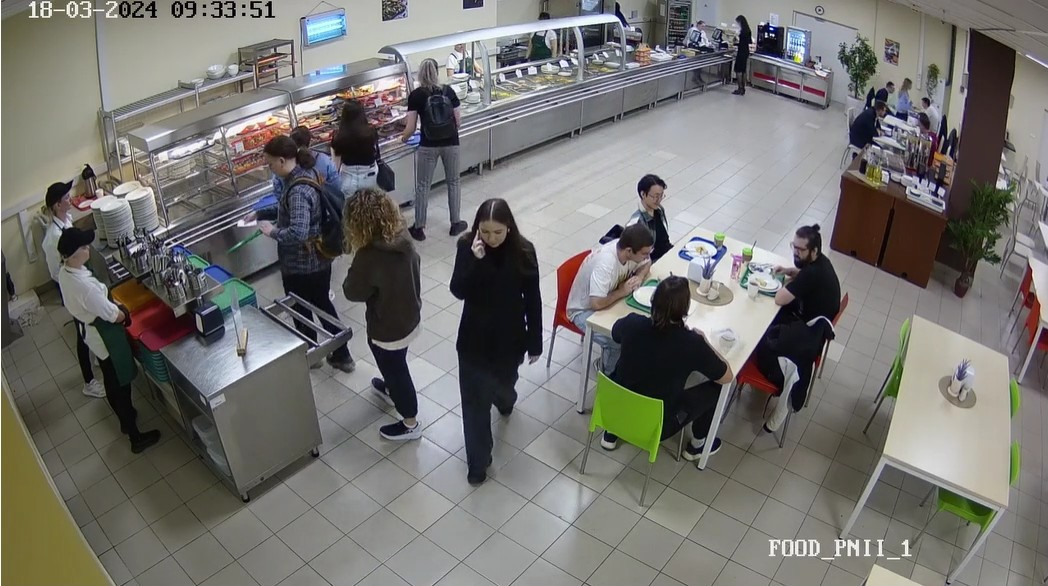Na_Kasse: (728, 13, 750, 98)
Ne_v_Ocheredi: (455, 193, 529, 481)
Personal: (42, 221, 241, 464), (40, 175, 79, 223), (523, 12, 556, 58), (447, 31, 482, 71), (681, 13, 710, 45)
Vybiraet: (222, 134, 349, 351), (333, 187, 424, 436), (399, 64, 471, 236), (325, 100, 393, 198)
Za_Stolom: (580, 263, 710, 500), (550, 211, 655, 376), (770, 209, 844, 331), (626, 169, 681, 255), (842, 99, 893, 166), (891, 77, 923, 120), (863, 75, 900, 110), (914, 112, 937, 160), (918, 91, 941, 111)
